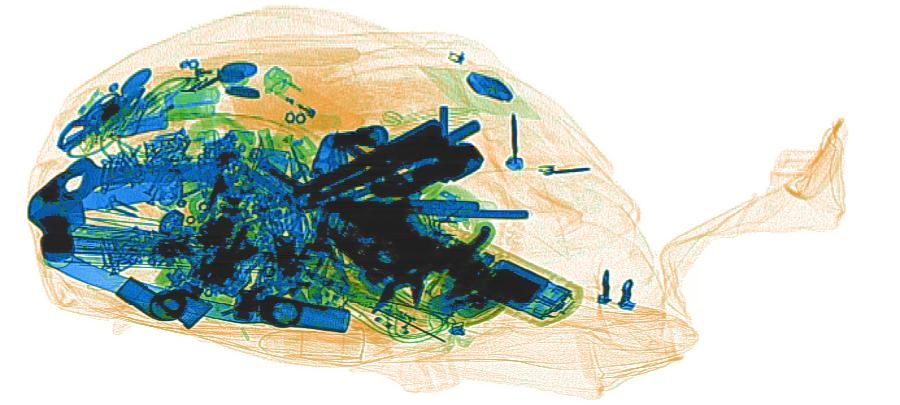battery: (426, 270, 505, 321)
lighter: (261, 63, 366, 143)
